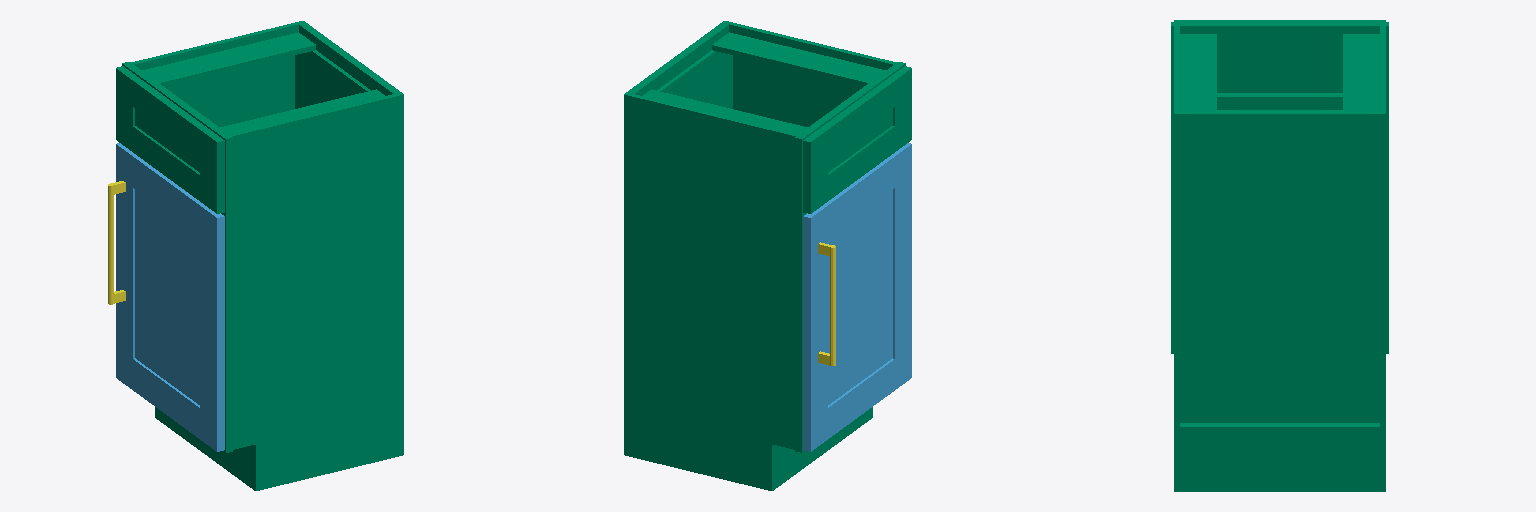
robot.urdf — partnet_3b577e2c7bbb8ca4c59350d819542ec7:
<?xml version="1.0" ?>
<robot name="partnet_3b577e2c7bbb8ca4c59350d819542ec7">
	<link name="base"/>
	<link name="link_0">
		<visual name="cabinet_door_surface-7">
			<origin xyz="-0.41510443709692785 -0.4317759871482849 -0.4041873159196629"/>
			<geometry>
				<mesh filename="textured_objs/original-36.obj"/>
			</geometry>
		</visual>
		<visual name="cabinet_door_surface-7">
			<origin xyz="-0.41510443709692785 -0.4317759871482849 -0.4041873159196629"/>
			<geometry>
				<mesh filename="textured_objs/original-33.obj"/>
			</geometry>
		</visual>
		<visual name="cabinet_door_surface-7">
			<origin xyz="-0.41510443709692785 -0.4317759871482849 -0.4041873159196629"/>
			<geometry>
				<mesh filename="textured_objs/original-31.obj"/>
			</geometry>
		</visual>
		<visual name="cabinet_door_surface-7">
			<origin xyz="-0.41510443709692785 -0.4317759871482849 -0.4041873159196629"/>
			<geometry>
				<mesh filename="textured_objs/original-32.obj"/>
			</geometry>
		</visual>
		<visual name="cabinet_door_surface-7">
			<origin xyz="-0.41510443709692785 -0.4317759871482849 -0.4041873159196629"/>
			<geometry>
				<mesh filename="textured_objs/original-34.obj"/>
			</geometry>
		</visual>
		<visual name="cabinet_door_surface-7">
			<origin xyz="-0.41510443709692785 -0.4317759871482849 -0.4041873159196629"/>
			<geometry>
				<mesh filename="textured_objs/original-37.obj"/>
			</geometry>
		</visual>
		<collision>
			<origin xyz="-0.41510443709692785 -0.4317759871482849 -0.4041873159196629"/>
			<geometry>
				<mesh filename="textured_objs/original-36.obj"/>
			</geometry>
		</collision>
		<collision>
			<origin xyz="-0.41510443709692785 -0.4317759871482849 -0.4041873159196629"/>
			<geometry>
				<mesh filename="textured_objs/original-33.obj"/>
			</geometry>
		</collision>
		<collision>
			<origin xyz="-0.41510443709692785 -0.4317759871482849 -0.4041873159196629"/>
			<geometry>
				<mesh filename="textured_objs/original-31.obj"/>
			</geometry>
		</collision>
		<collision>
			<origin xyz="-0.41510443709692785 -0.4317759871482849 -0.4041873159196629"/>
			<geometry>
				<mesh filename="textured_objs/original-32.obj"/>
			</geometry>
		</collision>
		<collision>
			<origin xyz="-0.41510443709692785 -0.4317759871482849 -0.4041873159196629"/>
			<geometry>
				<mesh filename="textured_objs/original-34.obj"/>
			</geometry>
		</collision>
		<collision>
			<origin xyz="-0.41510443709692785 -0.4317759871482849 -0.4041873159196629"/>
			<geometry>
				<mesh filename="textured_objs/original-37.obj"/>
			</geometry>
		</collision>
	</link>
	<joint name="joint_0" type="revolute">
		<origin xyz="0.41510443709692785 0.4317759871482849 0.4041873159196629"/>
		<axis xyz="0 1 0"/>
		<child link="link_0"/>
		<parent link="link_1"/>
		<limit lower="0.0" upper="1.7453292519943295"/>
	</joint>
	<link name="link_1">
		<visual name="drawer_front-45">
			<origin xyz="0 0 0"/>
			<geometry>
				<mesh filename="textured_objs/original-29.obj"/>
			</geometry>
		</visual>
		<visual name="drawer_front-45">
			<origin xyz="0 0 0"/>
			<geometry>
				<mesh filename="textured_objs/original-23.obj"/>
			</geometry>
		</visual>
		<visual name="drawer_front-45">
			<origin xyz="0 0 0"/>
			<geometry>
				<mesh filename="textured_objs/original-26.obj"/>
			</geometry>
		</visual>
		<visual name="drawer_front-45">
			<origin xyz="0 0 0"/>
			<geometry>
				<mesh filename="textured_objs/original-25.obj"/>
			</geometry>
		</visual>
		<visual name="drawer_front-45">
			<origin xyz="0 0 0"/>
			<geometry>
				<mesh filename="textured_objs/original-24.obj"/>
			</geometry>
		</visual>
		<visual name="drawer_front-45">
			<origin xyz="0 0 0"/>
			<geometry>
				<mesh filename="textured_objs/original-17.obj"/>
			</geometry>
		</visual>
		<visual name="drawer_front-45">
			<origin xyz="0 0 0"/>
			<geometry>
				<mesh filename="textured_objs/original-28.obj"/>
			</geometry>
		</visual>
		<visual name="drawer_front-45">
			<origin xyz="0 0 0"/>
			<geometry>
				<mesh filename="textured_objs/original-6.obj"/>
			</geometry>
		</visual>
		<visual name="back_panel-39">
			<origin xyz="0 0 0"/>
			<geometry>
				<mesh filename="textured_objs/original-42.obj"/>
			</geometry>
		</visual>
		<visual name="back_panel-39">
			<origin xyz="0 0 0"/>
			<geometry>
				<mesh filename="textured_objs/original-5.obj"/>
			</geometry>
		</visual>
		<visual name="bottom_panel-40">
			<origin xyz="0 0 0"/>
			<geometry>
				<mesh filename="textured_objs/original-2.obj"/>
			</geometry>
		</visual>
		<visual name="frame_horizontal_bar-46">
			<origin xyz="0 0 0"/>
			<geometry>
				<mesh filename="textured_objs/original-8.obj"/>
			</geometry>
		</visual>
		<visual name="frame_horizontal_bar-47">
			<origin xyz="0 0 0"/>
			<geometry>
				<mesh filename="textured_objs/original-4.obj"/>
			</geometry>
		</visual>
		<visual name="frame_horizontal_bar-48">
			<origin xyz="0 0 0"/>
			<geometry>
				<mesh filename="textured_objs/original-21.obj"/>
			</geometry>
		</visual>
		<visual name="frame_horizontal_bar-49">
			<origin xyz="0 0 0"/>
			<geometry>
				<mesh filename="textured_objs/original-20.obj"/>
			</geometry>
		</visual>
		<visual name="vertical_side_panel-50">
			<origin xyz="0 0 0"/>
			<geometry>
				<mesh filename="textured_objs/original-11.obj"/>
			</geometry>
		</visual>
		<visual name="vertical_side_panel-50">
			<origin xyz="0 0 0"/>
			<geometry>
				<mesh filename="textured_objs/original-10.obj"/>
			</geometry>
		</visual>
		<visual name="vertical_side_panel-51">
			<origin xyz="0 0 0"/>
			<geometry>
				<mesh filename="textured_objs/original-15.obj"/>
			</geometry>
		</visual>
		<visual name="vertical_side_panel-51">
			<origin xyz="0 0 0"/>
			<geometry>
				<mesh filename="textured_objs/original-14.obj"/>
			</geometry>
		</visual>
		<visual name="frame_vertical_bar-52">
			<origin xyz="0 0 0"/>
			<geometry>
				<mesh filename="textured_objs/original-7.obj"/>
			</geometry>
		</visual>
		<visual name="frame_vertical_bar-53">
			<origin xyz="0 0 0"/>
			<geometry>
				<mesh filename="textured_objs/original-3.obj"/>
			</geometry>
		</visual>
		<visual name="base_side_panel-10">
			<origin xyz="0 0 0"/>
			<geometry>
				<mesh filename="textured_objs/original-12.obj"/>
			</geometry>
		</visual>
		<visual name="base_side_panel-11">
			<origin xyz="0 0 0"/>
			<geometry>
				<mesh filename="textured_objs/original-18.obj"/>
			</geometry>
		</visual>
		<visual name="base_side_panel-12">
			<origin xyz="0 0 0"/>
			<geometry>
				<mesh filename="textured_objs/original-16.obj"/>
			</geometry>
		</visual>
		<visual name="base_side_panel-13">
			<origin xyz="0 0 0"/>
			<geometry>
				<mesh filename="textured_objs/original-19.obj"/>
			</geometry>
		</visual>
		<collision>
			<origin xyz="0 0 0"/>
			<geometry>
				<mesh filename="textured_objs/original-29.obj"/>
			</geometry>
		</collision>
		<collision>
			<origin xyz="0 0 0"/>
			<geometry>
				<mesh filename="textured_objs/original-23.obj"/>
			</geometry>
		</collision>
		<collision>
			<origin xyz="0 0 0"/>
			<geometry>
				<mesh filename="textured_objs/original-26.obj"/>
			</geometry>
		</collision>
		<collision>
			<origin xyz="0 0 0"/>
			<geometry>
				<mesh filename="textured_objs/original-25.obj"/>
			</geometry>
		</collision>
		<collision>
			<origin xyz="0 0 0"/>
			<geometry>
				<mesh filename="textured_objs/original-24.obj"/>
			</geometry>
		</collision>
		<collision>
			<origin xyz="0 0 0"/>
			<geometry>
				<mesh filename="textured_objs/original-17.obj"/>
			</geometry>
		</collision>
		<collision>
			<origin xyz="0 0 0"/>
			<geometry>
				<mesh filename="textured_objs/original-28.obj"/>
			</geometry>
		</collision>
		<collision>
			<origin xyz="0 0 0"/>
			<geometry>
				<mesh filename="textured_objs/original-6.obj"/>
			</geometry>
		</collision>
		<collision>
			<origin xyz="0 0 0"/>
			<geometry>
				<mesh filename="textured_objs/original-42.obj"/>
			</geometry>
		</collision>
		<collision>
			<origin xyz="0 0 0"/>
			<geometry>
				<mesh filename="textured_objs/original-5.obj"/>
			</geometry>
		</collision>
		<collision>
			<origin xyz="0 0 0"/>
			<geometry>
				<mesh filename="textured_objs/original-2.obj"/>
			</geometry>
		</collision>
		<collision>
			<origin xyz="0 0 0"/>
			<geometry>
				<mesh filename="textured_objs/original-8.obj"/>
			</geometry>
		</collision>
		<collision>
			<origin xyz="0 0 0"/>
			<geometry>
				<mesh filename="textured_objs/original-4.obj"/>
			</geometry>
		</collision>
		<collision>
			<origin xyz="0 0 0"/>
			<geometry>
				<mesh filename="textured_objs/original-21.obj"/>
			</geometry>
		</collision>
		<collision>
			<origin xyz="0 0 0"/>
			<geometry>
				<mesh filename="textured_objs/original-20.obj"/>
			</geometry>
		</collision>
		<collision>
			<origin xyz="0 0 0"/>
			<geometry>
				<mesh filename="textured_objs/original-11.obj"/>
			</geometry>
		</collision>
		<collision>
			<origin xyz="0 0 0"/>
			<geometry>
				<mesh filename="textured_objs/original-10.obj"/>
			</geometry>
		</collision>
		<collision>
			<origin xyz="0 0 0"/>
			<geometry>
				<mesh filename="textured_objs/original-15.obj"/>
			</geometry>
		</collision>
		<collision>
			<origin xyz="0 0 0"/>
			<geometry>
				<mesh filename="textured_objs/original-14.obj"/>
			</geometry>
		</collision>
		<collision>
			<origin xyz="0 0 0"/>
			<geometry>
				<mesh filename="textured_objs/original-7.obj"/>
			</geometry>
		</collision>
		<collision>
			<origin xyz="0 0 0"/>
			<geometry>
				<mesh filename="textured_objs/original-3.obj"/>
			</geometry>
		</collision>
		<collision>
			<origin xyz="0 0 0"/>
			<geometry>
				<mesh filename="textured_objs/original-12.obj"/>
			</geometry>
		</collision>
		<collision>
			<origin xyz="0 0 0"/>
			<geometry>
				<mesh filename="textured_objs/original-18.obj"/>
			</geometry>
		</collision>
		<collision>
			<origin xyz="0 0 0"/>
			<geometry>
				<mesh filename="textured_objs/original-16.obj"/>
			</geometry>
		</collision>
		<collision>
			<origin xyz="0 0 0"/>
			<geometry>
				<mesh filename="textured_objs/original-19.obj"/>
			</geometry>
		</collision>
	</link>
	<joint name="joint_1" type="fixed">
		<origin rpy="1.570796326794897 0 -1.570796326794897" xyz="0 0 0"/>
		<child link="link_1"/>
		<parent link="base"/>
	</joint>
	<link name="link_2">
		<visual name="handle-1">
			<origin xyz="-0.41510443709692785 -0.4317759871482849 -0.4041873159196629"/>
			<geometry>
				<mesh filename="textured_objs/original-39.obj"/>
			</geometry>
		</visual>
		<visual name="handle-1">
			<origin xyz="-0.41510443709692785 -0.4317759871482849 -0.4041873159196629"/>
			<geometry>
				<mesh filename="textured_objs/original-41.obj"/>
			</geometry>
		</visual>
		<visual name="handle-1">
			<origin xyz="-0.41510443709692785 -0.4317759871482849 -0.4041873159196629"/>
			<geometry>
				<mesh filename="textured_objs/original-40.obj"/>
			</geometry>
		</visual>
		<collision>
			<origin xyz="-0.41510443709692785 -0.4317759871482849 -0.4041873159196629"/>
			<geometry>
				<mesh filename="textured_objs/original-39.obj"/>
			</geometry>
		</collision>
		<collision>
			<origin xyz="-0.41510443709692785 -0.4317759871482849 -0.4041873159196629"/>
			<geometry>
				<mesh filename="textured_objs/original-41.obj"/>
			</geometry>
		</collision>
		<collision>
			<origin xyz="-0.41510443709692785 -0.4317759871482849 -0.4041873159196629"/>
			<geometry>
				<mesh filename="textured_objs/original-40.obj"/>
			</geometry>
		</collision>
	</link>
	<joint name="joint_2" type="fixed">
		<origin rpy="0 0 0" xyz="0 0 0"/>
		<child link="link_2"/>
		<parent link="link_0"/>
	</joint>
</robot>

--- What the picture shows (computed from the rendered views, not written in the file) ---
The picture shows the robot from 3 angles, left to right: view 1: azimuth 30°, elevation 25°; view 2: azimuth 150°, elevation 25°; view 3: azimuth 270°, elevation 25°; orthographic projection.
Model partnet_3b577e2c7bbb8ca4c59350d819542ec7 with 4 links and 3 joints (1 revolute, 2 fixed), rooted at base, posed every joint at zero.
Links seen in each view (by area): view 1: link_1, link_0, link_2; view 2: link_1, link_0, link_2; view 3: link_1.
Boxes of the visible links, left/top/right/bottom form: link_1: left=116, top=21, right=403, bottom=490; link_0: left=116, top=143, right=224, bottom=451; link_2: left=108, top=181, right=125, bottom=304; link_1: left=624, top=21, right=911, bottom=490; link_0: left=803, top=143, right=911, bottom=451; link_2: left=818, top=242, right=835, bottom=365; link_1: left=1171, top=20, right=1388, bottom=491.
Bounding box of the posed robot: 0.9433 × 0.8333 × 1.6 m (x, y, z).
34 mesh visuals loaded from 34 distinct referenced files (34 OBJ).
